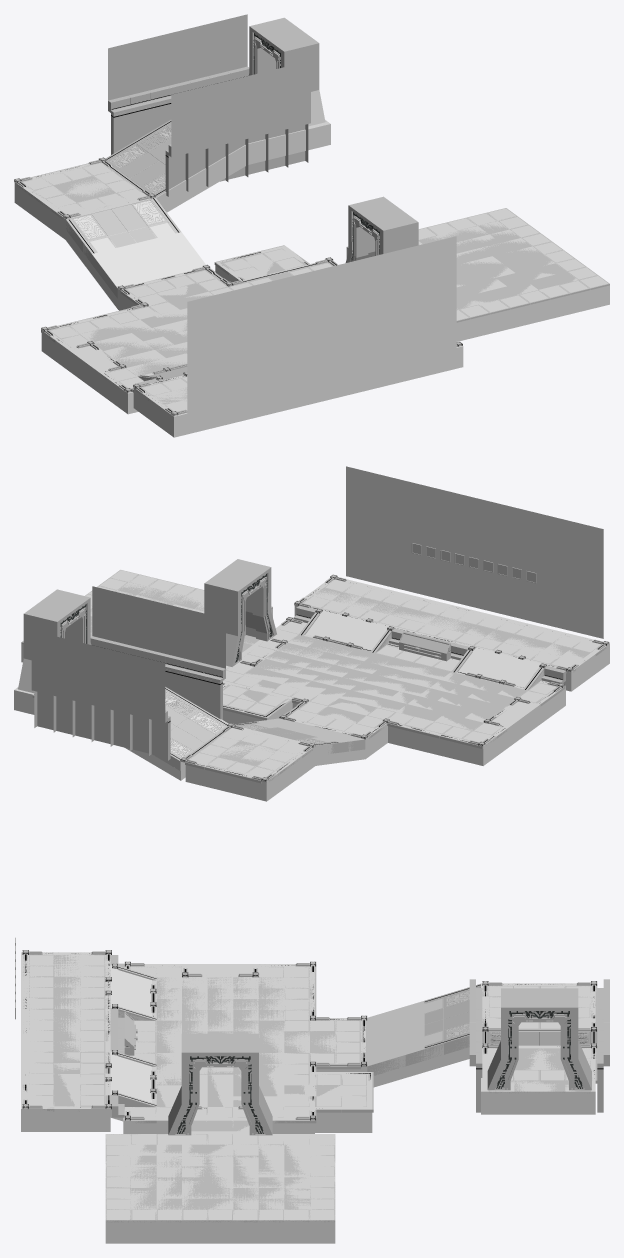
Rendered from NumberPuzzleTest.fbx.
3 views of the same model, one above another, from view 1: azimuth 30°, elevation 25°; view 2: azimuth 150°, elevation 25°; view 3: azimuth 270°, elevation 25° (orthographic). The views are drawn at different scales.
Parts seen in each view (by area): view 1: Cube.002, Block_Full.001, Cube.017, Cube.008, Cube.006, Cube.012, Cube.013, DoorwayTEMP.001, DoorwayTEMP.002, Cube.007, Cube.014, Cube.016 (+9 smaller); view 2: Cube.002, Block_Full.001, Cube.008, Cube.006, Cube.013, Cube.007, DoorwayTEMP.002, Cube, DoorwayTEMP.001, Cube.017, Cube.012, Cube.009 (+16 smaller); view 3: Cube.017, Cube.008, Cube.006, Cube, Cube.007, DoorwayTEMP.002, DoorwayTEMP.001, Cube.012, Cube.015, Cube.016, Cube.013, Cube.009 (+3 smaller).
Boxes of the visible parts, x1=… form: Cube.002: x1=187, y1=236, x2=456, y2=416; Block_Full.001: x1=108, y1=14, x2=310, y2=157; Cube.017: x1=346, y1=208, x2=609, y2=341; Cube.008: x1=133, y1=345, x2=463, y2=437; Cube.006: x1=41, y1=307, x2=187, y2=414; Cube.012: x1=66, y1=201, x2=205, y2=309; Cube.013: x1=14, y1=162, x2=151, y2=239; DoorwayTEMP.001: x1=248, y1=17, x2=325, y2=126; DoorwayTEMP.002: x1=345, y1=196, x2=418, y2=262; Cube.007: x1=118, y1=270, x2=232, y2=336; Cube.014: x1=110, y1=128, x2=245, y2=212; Cube.016: x1=215, y1=245, x2=310, y2=282; Cube.002: x1=346, y1=466, x2=603, y2=638; Block_Full.001: x1=31, y1=586, x2=225, y2=722; Cube.008: x1=294, y1=579, x2=609, y2=691; Cube.006: x1=388, y1=672, x2=565, y2=765; Cube.013: x1=185, y1=728, x2=316, y2=801; Cube.007: x1=288, y1=644, x2=459, y2=758; DoorwayTEMP.002: x1=204, y1=559, x2=276, y2=666; Cube: x1=223, y1=621, x2=371, y2=708; DoorwayTEMP.001: x1=18, y1=589, x2=91, y2=693; Cube.017: x1=21, y1=570, x2=272, y2=662; Cube.012: x1=240, y1=718, x2=365, y2=765; Cube.009: x1=458, y1=647, x2=547, y2=688; Cube.017: x1=105, y1=1134, x2=335, y2=1243; Cube.008: x1=21, y1=952, x2=110, y2=1131; Cube.006: x1=124, y1=964, x2=314, y2=1020; Cube: x1=123, y1=1064, x2=314, y2=1133; Cube.007: x1=130, y1=1018, x2=365, y2=1071; DoorwayTEMP.002: x1=168, y1=1033, x2=272, y2=1135; DoorwayTEMP.001: x1=487, y1=988, x2=591, y2=1090; Cube.012: x1=366, y1=991, x2=469, y2=1087; Cube.015: x1=481, y1=1045, x2=595, y2=1114; Cube.016: x1=315, y1=1072, x2=372, y2=1132; Cube.013: x1=481, y1=983, x2=595, y2=1028; Cube.009: x1=110, y1=965, x2=151, y2=1020.
Bounding box in the file's own units: 4750 × 1607 × 4667.
